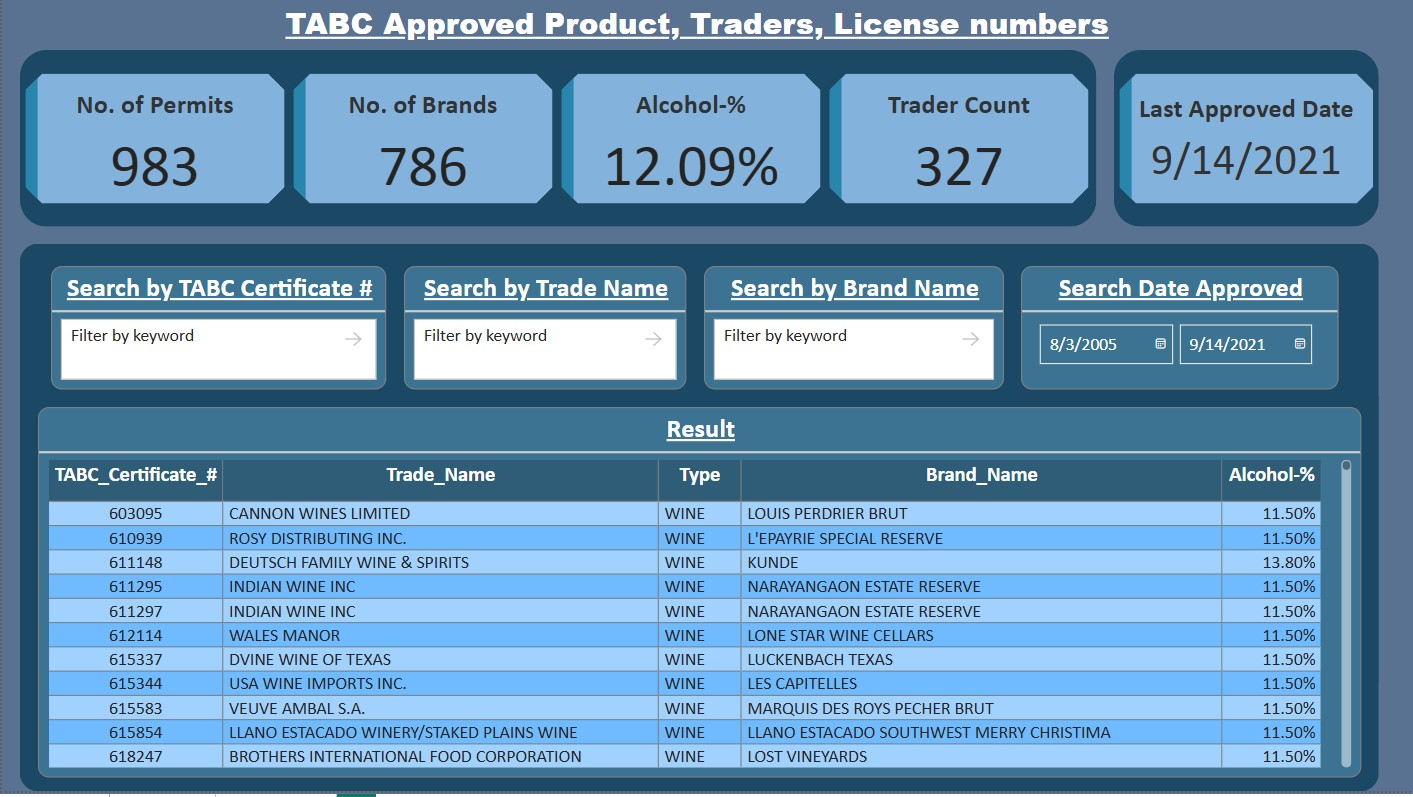

The page's visual inventory and layout, read from the dashboard file:
{"tool":"powerbi","page":{"name":"Page 1","canvas":[1280,720],"ordinal":0},"visuals":[{"type":"group","id":"g1","title":"Group 4","box":[16,48,976,160],"z":0,"group":"g5"},{"type":"shape","box":[16,224,1232,496],"z":0,"group":"g2"},{"type":"shape","box":[16,48,976,160],"z":1000,"group":"g1"},{"type":"shape","box":[1008,48,240,160],"z":1000,"group":"g3"},{"type":"group","id":"g2","title":"Group 2","box":[16,224,1232,496],"z":1000,"group":"g5"},{"type":"textSlicer","title":"Search by Trade Name","fields":{"Values":["TABC Approved Product Lable.Trade_Name"]},"box":[363.6,244,256,112],"z":1000,"group":"g4"},{"type":"group","id":"g3","title":"Group 4","box":[1008,48,240,160],"z":2000,"group":"g5"},{"type":"cardVisual","fields":{"Data":["CountNonNull(TABC Approved Product Lable.Permit_License_Number)","Count(TABC Approved Product Lable.Brand_Name)","TABC Approved Product Lable.Alcohol-%","Count(TABC Approved Product Lable.Trade_Name)"]},"box":[16,64,976,128],"z":2000,"group":"g1"},{"type":"cardVisual","fields":{"Data":["Min(TABC Approved Product Lable.value.approval_date)"]},"box":[1008,64,240,128],"z":2000,"group":"g3"},{"type":"group","id":"g4","title":"Group 1","box":[32,244,1200,444],"z":2000,"group":"g2"},{"type":"textSlicer","title":"Search by Brand Name","fields":{"Values":["TABC Approved Product Lable.Brand_Name"]},"box":[635.6,244,272,112],"z":2000,"group":"g4"},{"type":"group","id":"g5","title":"Group 3","box":[16,48,1232,672],"z":2001},{"type":"textbox","box":[252,0,776,48],"z":2002},{"type":"slicer","title":"Search Date Approved","fields":{"Values":["TABC Approved Product Lable.value.approval_date"]},"box":[923.6,244,288,112],"z":3000,"group":"g4"},{"type":"tableEx","title":"Result","fields":{"Values":["TABC Approved Product Lable.TABC_Certificate_Number","TABC Approved Product Lable.Trade_Name","TABC Approved Product Lable.Type","TABC Approved Product Lable.Brand_Name","TABC Approved Product Lable.Alcohol-%"]},"box":[32,368,1200,320],"z":4000,"group":"g4"},{"type":"textSlicer","title":"Search by TABC Certificate #","fields":{"Values":["TABC Approved Product Lable.TABC_Certificate_Number - Copy"]},"box":[43.6,244,304,112],"z":6000,"group":"g4"}]}

Visuals, with their boxes in screenshot pixels (x1, y1, x2, y2), scaled from the page's 1280x720 canvas onto the 1413x797 screenshot:
"Group 4" group: {"left": 18, "top": 53, "right": 1095, "bottom": 230}
shape: {"left": 18, "top": 248, "right": 1378, "bottom": 796}
shape: {"left": 18, "top": 53, "right": 1095, "bottom": 230}
shape: {"left": 1113, "top": 53, "right": 1378, "bottom": 230}
"Group 2" group: {"left": 18, "top": 248, "right": 1378, "bottom": 796}
"Search by Trade Name" textSlicer: {"left": 401, "top": 270, "right": 684, "bottom": 394}
"Group 4" group: {"left": 1113, "top": 53, "right": 1378, "bottom": 230}
cardVisual - CountNonNull(TABC Approved Product Lable.Permit_License_Number) x Count(TABC Approved Product Lable.Brand_Name): {"left": 18, "top": 71, "right": 1095, "bottom": 213}
cardVisual - Min(TABC Approved Product Lable.value.approval_date): {"left": 1113, "top": 71, "right": 1378, "bottom": 213}
"Group 1" group: {"left": 35, "top": 270, "right": 1360, "bottom": 762}
"Search by Brand Name" textSlicer: {"left": 702, "top": 270, "right": 1002, "bottom": 394}
"Group 3" group: {"left": 18, "top": 53, "right": 1378, "bottom": 796}
textbox: {"left": 278, "top": 0, "right": 1135, "bottom": 53}
"Search Date Approved" slicer: {"left": 1020, "top": 270, "right": 1337, "bottom": 394}
"Result" tableEx: {"left": 35, "top": 407, "right": 1360, "bottom": 762}
"Search by TABC Certificate #" textSlicer: {"left": 48, "top": 270, "right": 384, "bottom": 394}
